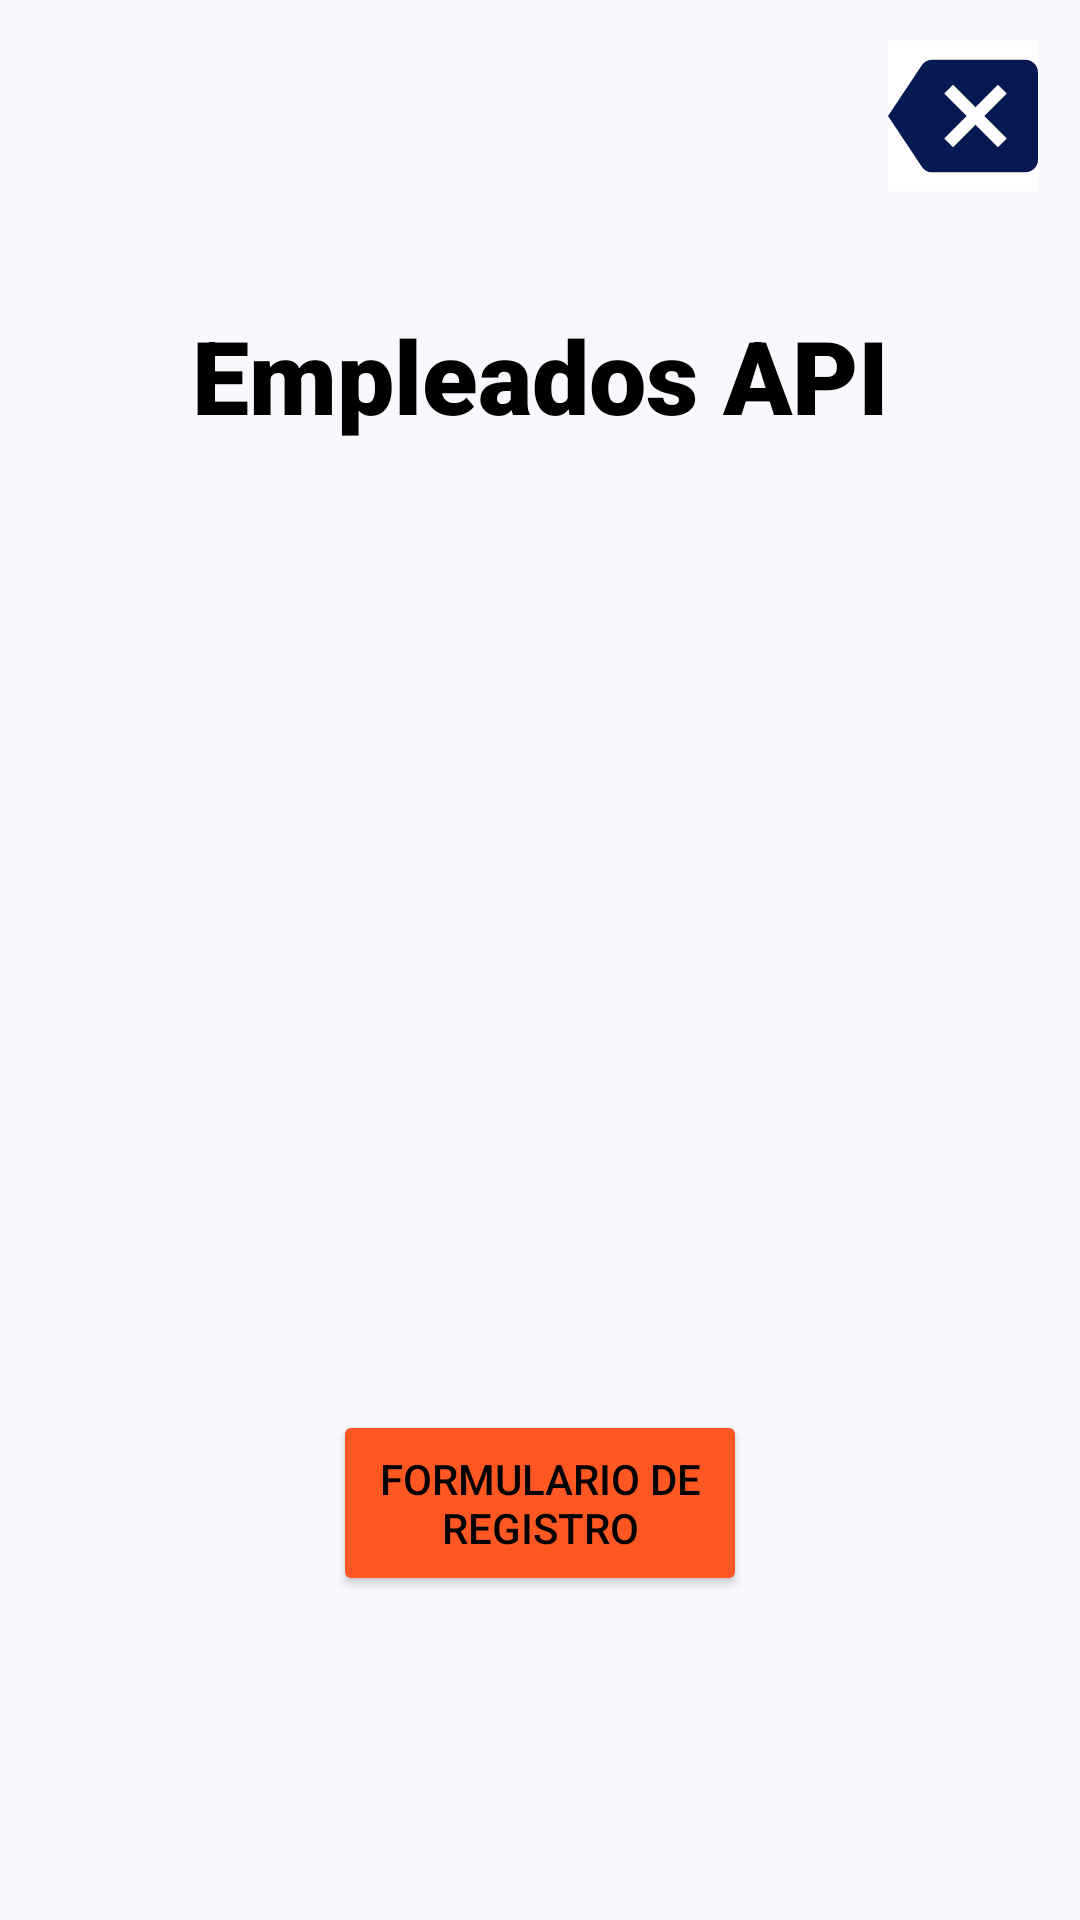

Locate icon controls on the screen. Image size 1080×1920, boxes as (x1, y1, x2, y2).
backspace: (888, 59, 1038, 173)
